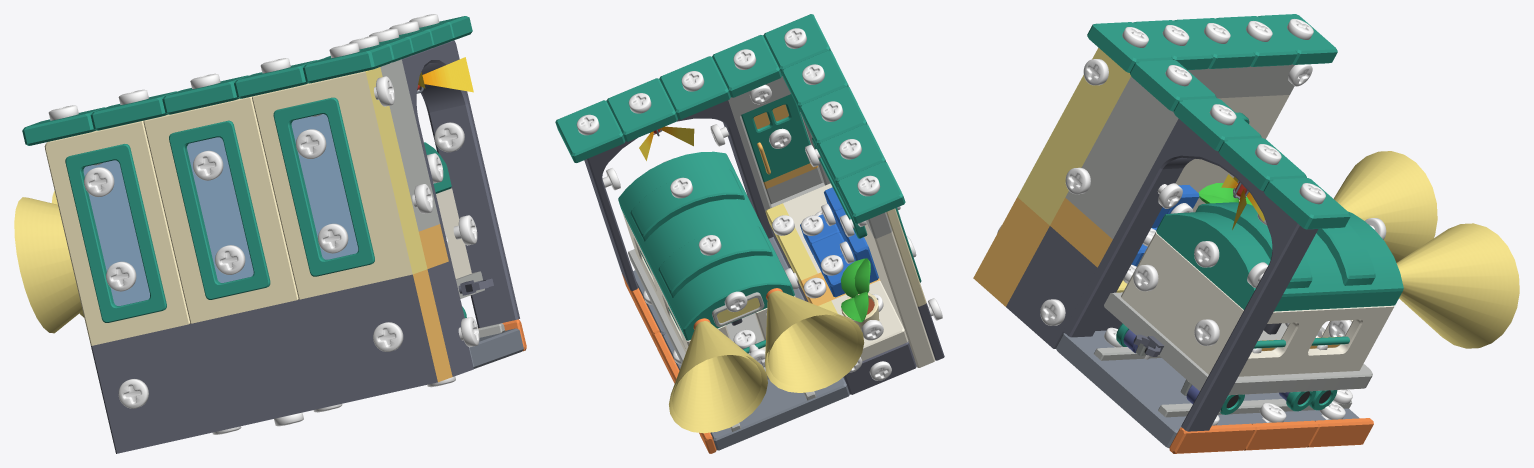
The model's file is Subway.fbx.
3 views of the same model, side by side, from view 1: azimuth 30°, elevation 25°; view 2: azimuth 150°, elevation 25°; view 3: azimuth 270°, elevation 25° (orthographic). The views are drawn at different scales.
Visible parts, largest first — view 1: Board_Subway_29, Board_Subway_31, Board_Subway_30, Board_Subway_2, Board_Subway_32, Screw (×11), Board_Subway_5, Board_Subway_47, Board_Subway_57, Board_Subway_36, Board_Subway_40, Board_Subway_33 (+10 smaller); view 2: Board_Subway_47, Board_Subway_28, Board_Subway_1, Board_Subway_17, Board_Subway_37, Board_Subway_41, Board_Subway_38, Board_Subway_35, Board_Subway_39, Board_Subway_40, Board_Subway_33, Board_Subway_34 (+23 smaller); view 3: Board_Subway_47, Board_Subway_32, Board_Subway_53, Board_Subway_6, Board_Subway_44, Board_Subway_42, Board_Subway_58, Board_Subway_57, Board_Subway_5, Screw (×6), Board_Subway_1, Board_Subway_22 (+19 smaller).
Boxes of the visible parts, x1,y1,x2,y2 form: Board_Subway_29: [91, 274, 437, 453]; Board_Subway_31: [252, 71, 412, 299]; Board_Subway_30: [143, 96, 299, 323]; Board_Subway_2: [44, 120, 190, 345]; Board_Subway_32: [365, 59, 473, 382]; Screw (×11): [84, 122, 477, 408]; Board_Subway_5: [428, 103, 519, 328]; Board_Subway_47: [14, 142, 451, 333]; Board_Subway_57: [402, 40, 473, 122]; Board_Subway_36: [303, 44, 392, 83]; Board_Subway_40: [162, 75, 248, 114]; Board_Subway_33: [90, 91, 176, 130]; Board_Subway_47: [618, 151, 864, 433]; Board_Subway_28: [741, 94, 823, 204]; Board_Subway_1: [864, 223, 935, 367]; Board_Subway_17: [710, 377, 849, 450]; Board_Subway_37: [606, 78, 677, 141]; Board_Subway_41: [659, 56, 730, 119]; Board_Subway_38: [555, 100, 625, 162]; Board_Subway_35: [712, 35, 781, 97]; Board_Subway_39: [836, 161, 905, 223]; Board_Subway_40: [799, 86, 867, 149]; Board_Subway_33: [818, 124, 885, 186]; Board_Subway_34: [781, 50, 848, 111]; Board_Subway_47: [1156, 151, 1519, 348]; Board_Subway_32: [973, 48, 1178, 348]; Board_Subway_53: [1121, 232, 1243, 374]; Board_Subway_6: [1055, 330, 1240, 447]; Board_Subway_44: [1238, 306, 1386, 376]; Board_Subway_42: [1104, 292, 1372, 395]; Board_Subway_58: [1063, 163, 1183, 337]; Board_Subway_57: [1154, 118, 1318, 269]; Board_Subway_5: [1181, 264, 1296, 431]; Screw (×6): [1040, 59, 1219, 345]; Board_Subway_1: [1175, 95, 1289, 212]; Board_Subway_22: [1188, 64, 1294, 98].
Bounding box in the file's own units: 11.05 × 11.03 × 12.81.
Materials: 3 (2 with a texture image).
